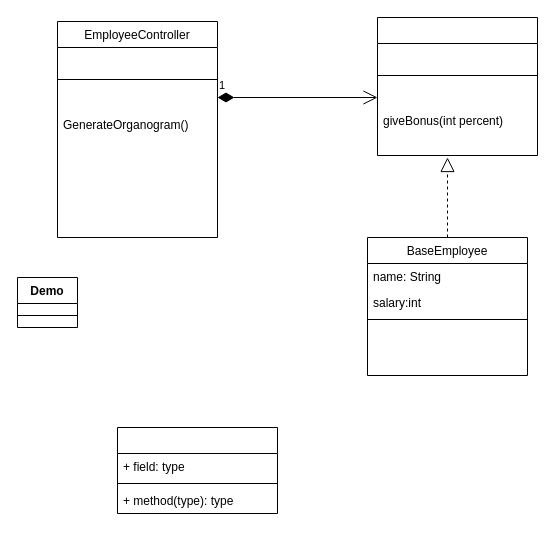
The diagram is 555 pixels wide and 534 high, and some of its shapes have lost their labels. The shapes that lost their labels are listed below. From the top down, each one's box as (x1, y1, x2, y2) in pixels, then its label:
(376, 16, 538, 156): IEmployee
(116, 426, 278, 514): Classname
